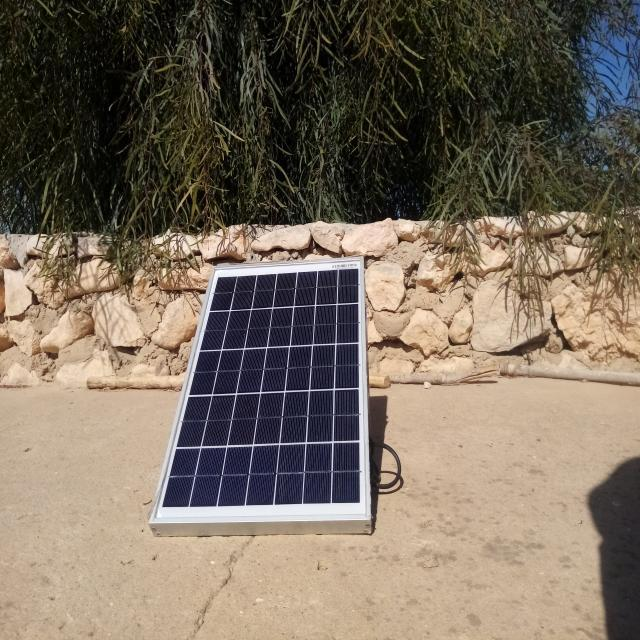no faulty: (149, 256, 370, 524)
